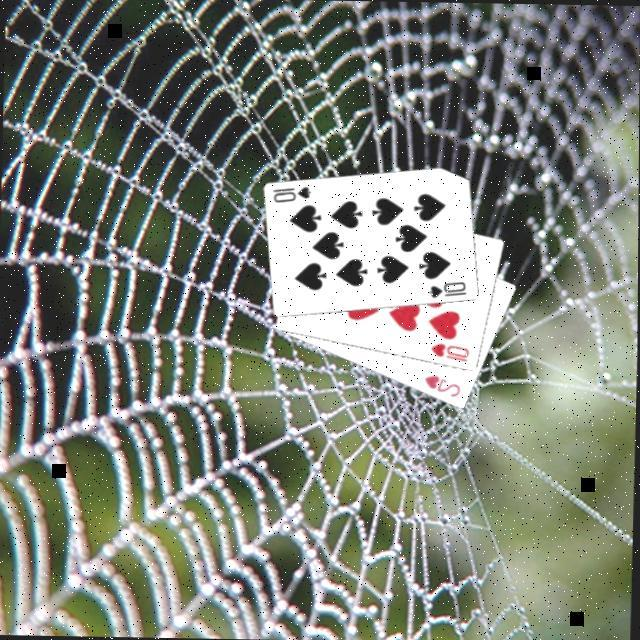10H: (427, 342, 471, 367)
10S: (425, 279, 469, 304), (269, 184, 313, 209)
2H: (421, 373, 463, 402)
